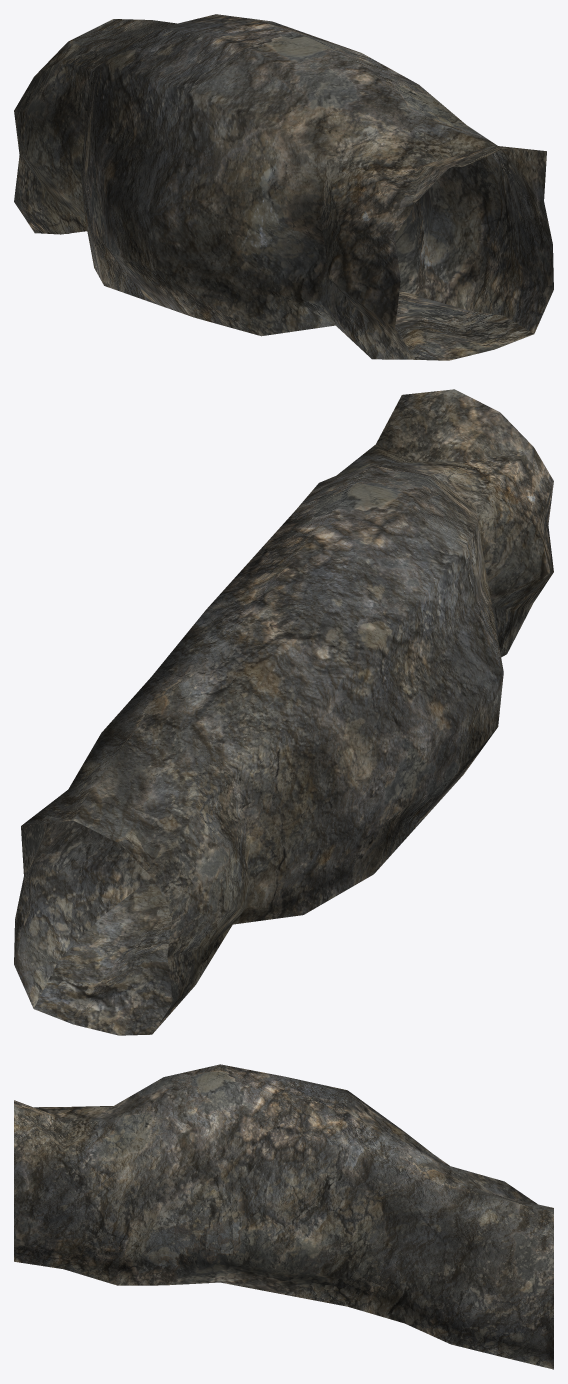
The model's file is cave_piece_10.glb.
3 renders of one model, top to bottom at view 1: azimuth 30°, elevation 25°; view 2: azimuth 150°, elevation 25°; view 3: azimuth 270°, elevation 25°, orthographic. The views are drawn at different scales.
Visible parts, largest first — view 1: mine_10_mine_0; view 2: mine_10_mine_0; view 3: mine_10_mine_0.
Boxes of the visible parts, x1,y1,x2,y2 form: mine_10_mine_0: (14, 14, 553, 360); mine_10_mine_0: (14, 389, 553, 1035); mine_10_mine_0: (14, 1064, 553, 1369).
Bounding box in the file's own units: 6.11 × 7.85 × 14.69.
1 material, 1 textured.
